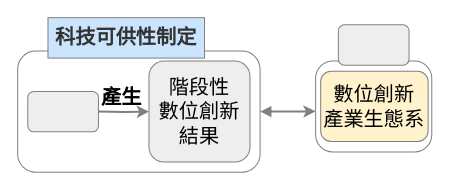
This 449x190 diagram has some shape labels left out. Each missing label, with the centre of its shape:
目的: the point at 373,44
行動: the point at 62,111
